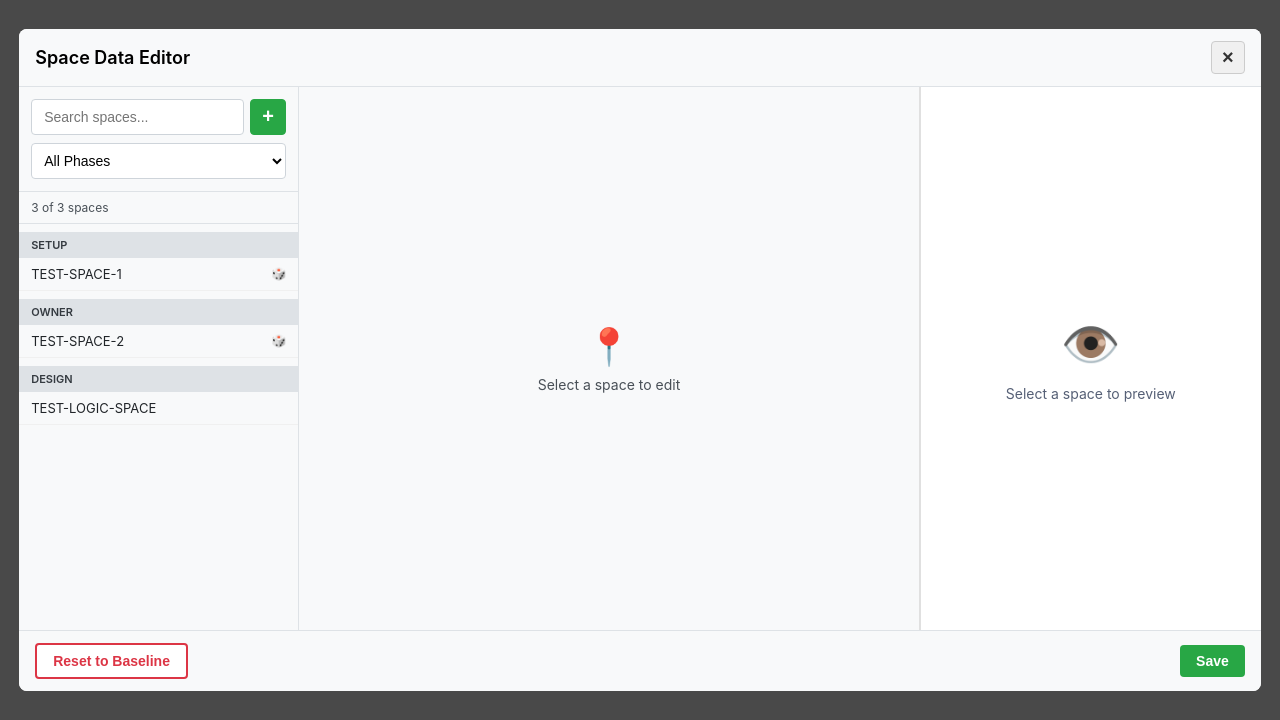
Test: DataEditor › Space Browser › filters spaces by phase
The image size is (1280, 720).
Expected: the text "TEST-SPACE-1" is shown, [31,266,122,282]
Select "OWNER" in the dropdown showing "All Phases" at {"x": 159, "y": 161}, box [31,143,286,179]
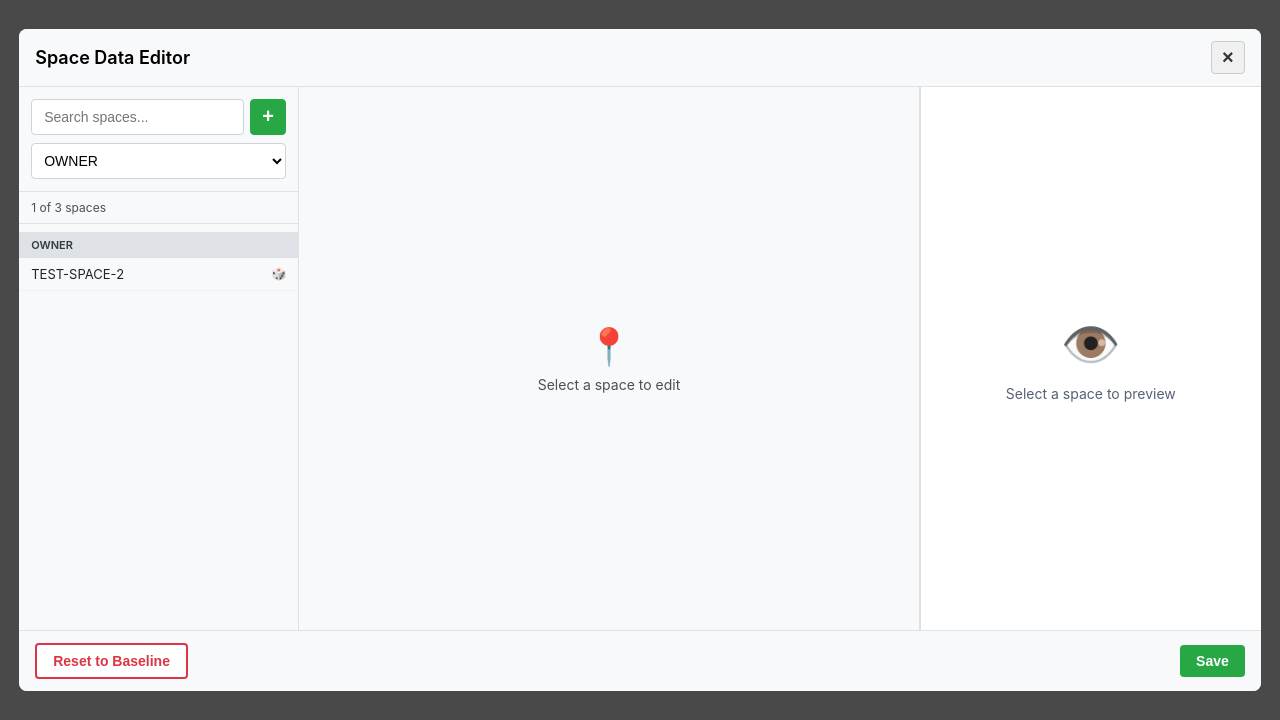
Expected: the text "TEST-SPACE-2" is shown, [31,266,124,282]
Now the text "TEST-SPACE-1" is gone
